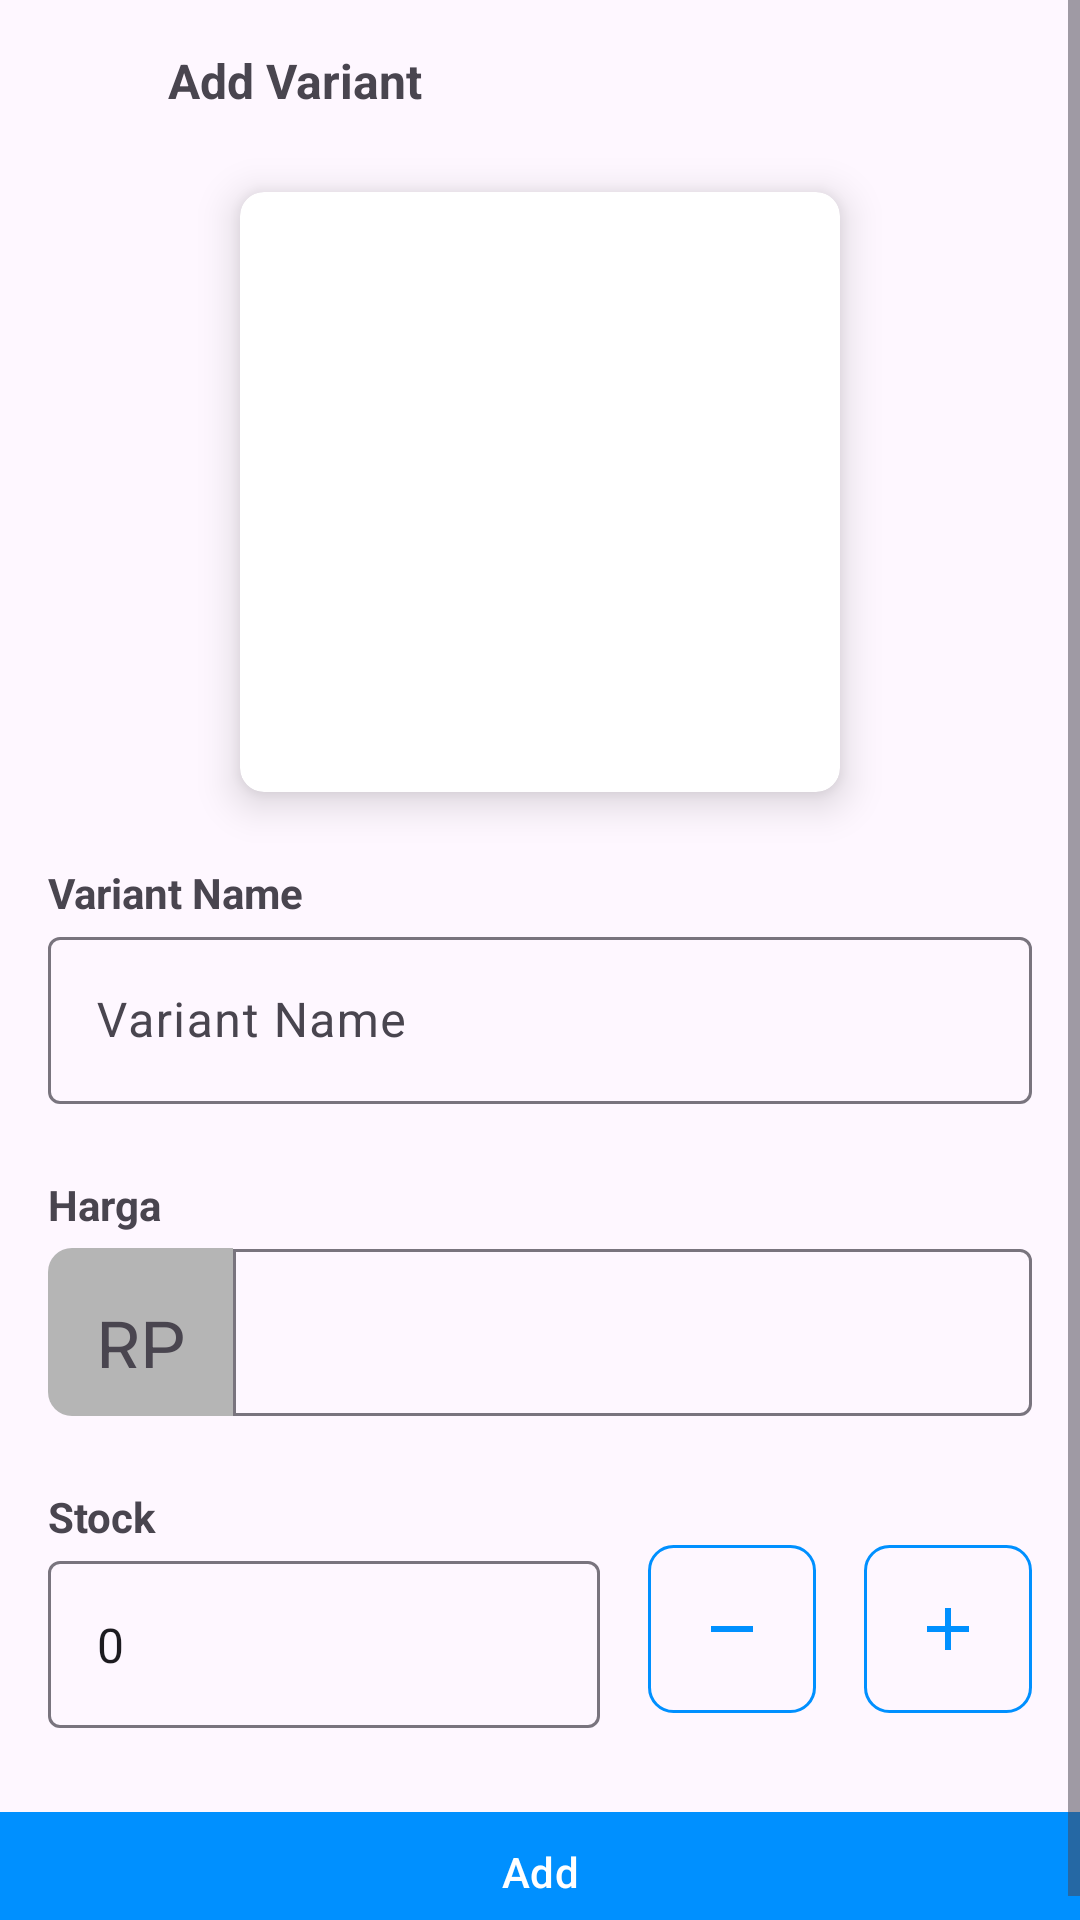

Named icons in this screenshot (1080px x 1920px) and their centers, [x,y]:
remove: [732,1629]
